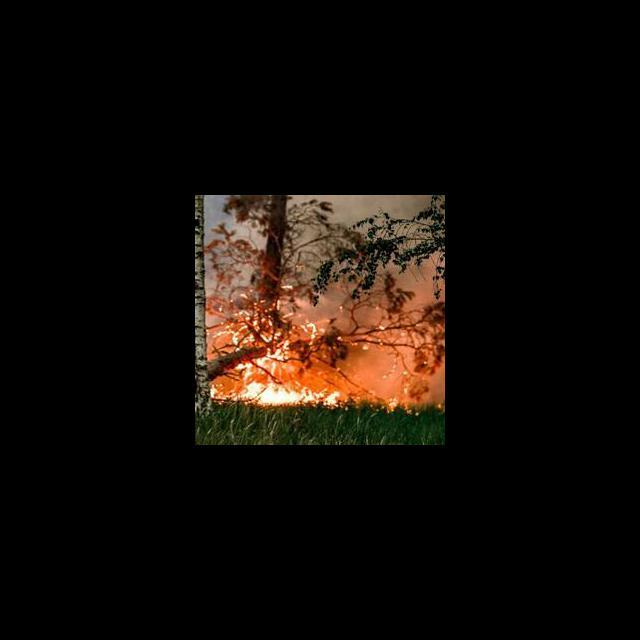Fire: (212, 283, 396, 411)
